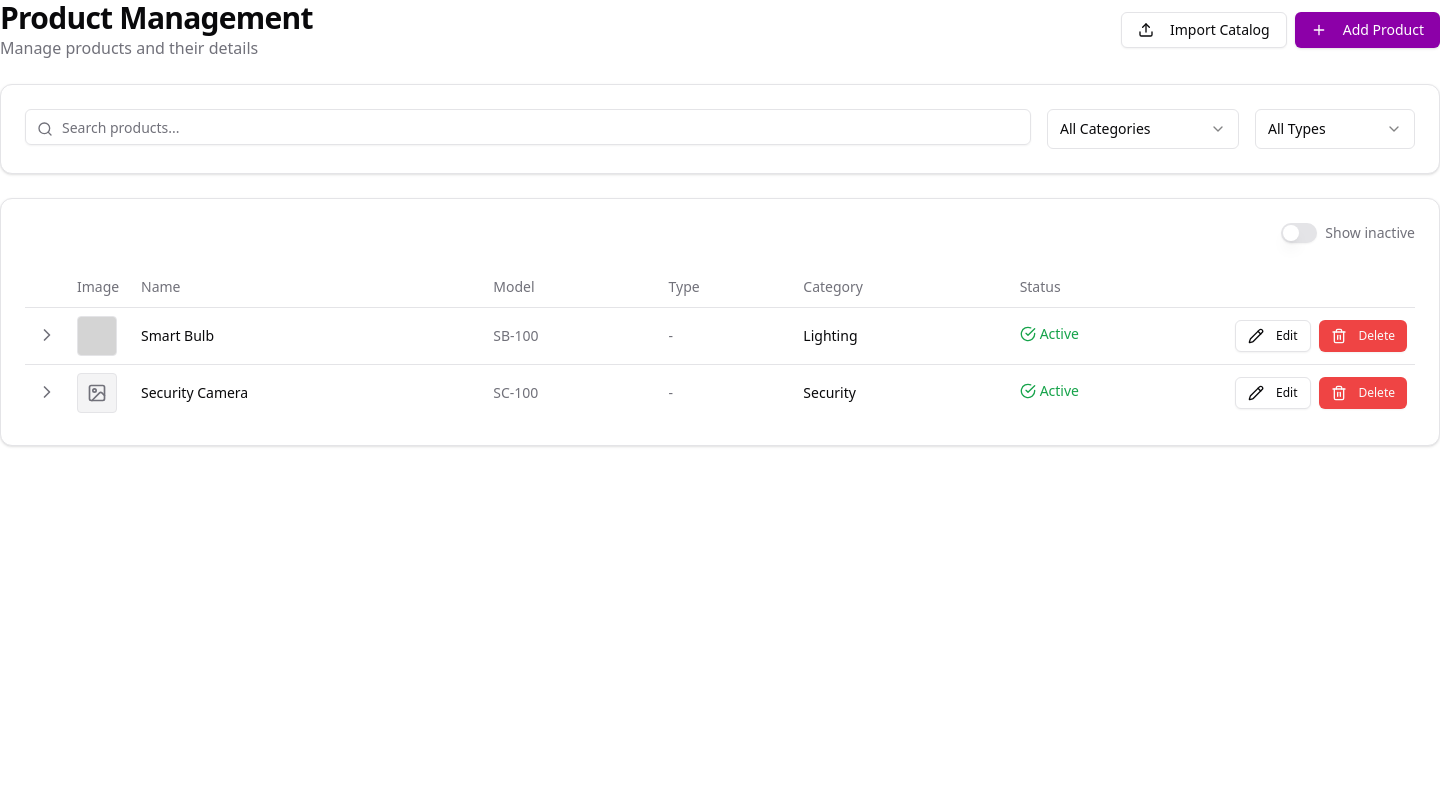
ItemManagement › opens create product modal when add product clicked
Find and click the Add Product button
What coordinates should you click on to do the following:
click the button "Add Product"
I would click on:
 (1367, 30)
Its box is [1295,12,1439,48].
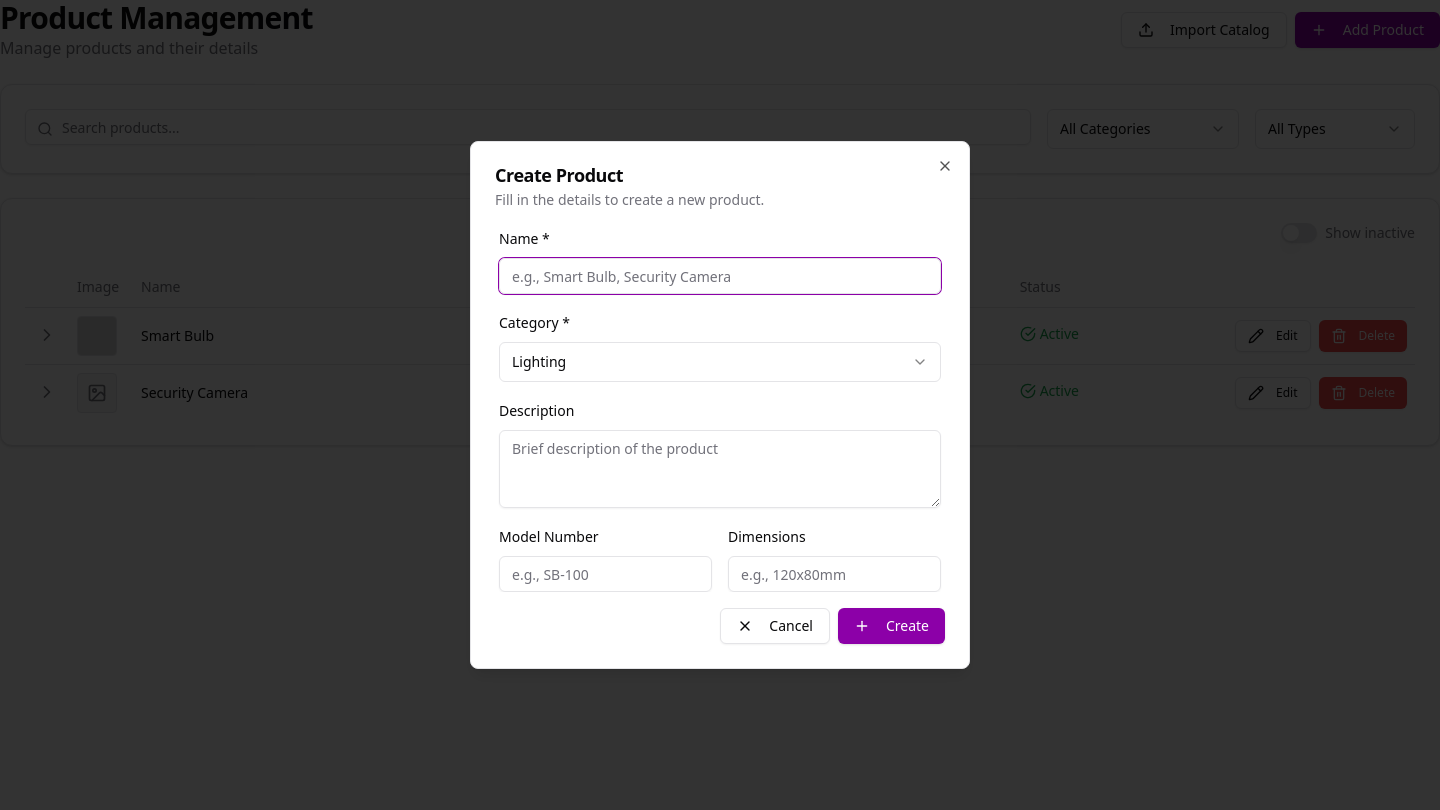
Expected: the dialog is shown, [470,141,970,669]
